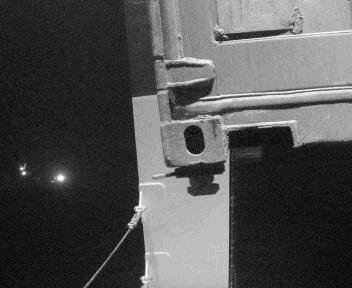twist_lock_1: (145, 157, 207, 204)
